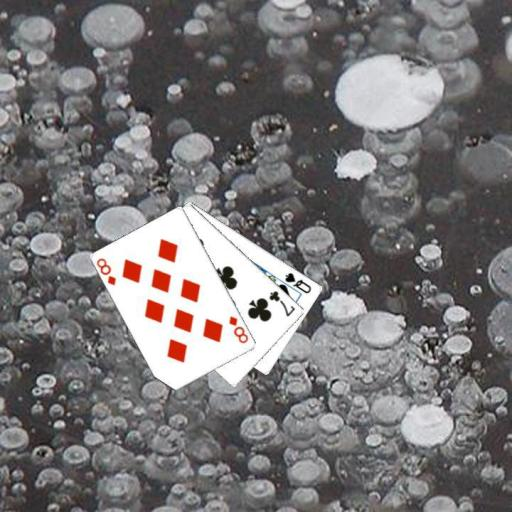7C: (266, 287, 296, 318)
8D: (226, 313, 250, 345), (94, 255, 118, 287)
QS: (282, 270, 313, 295)
